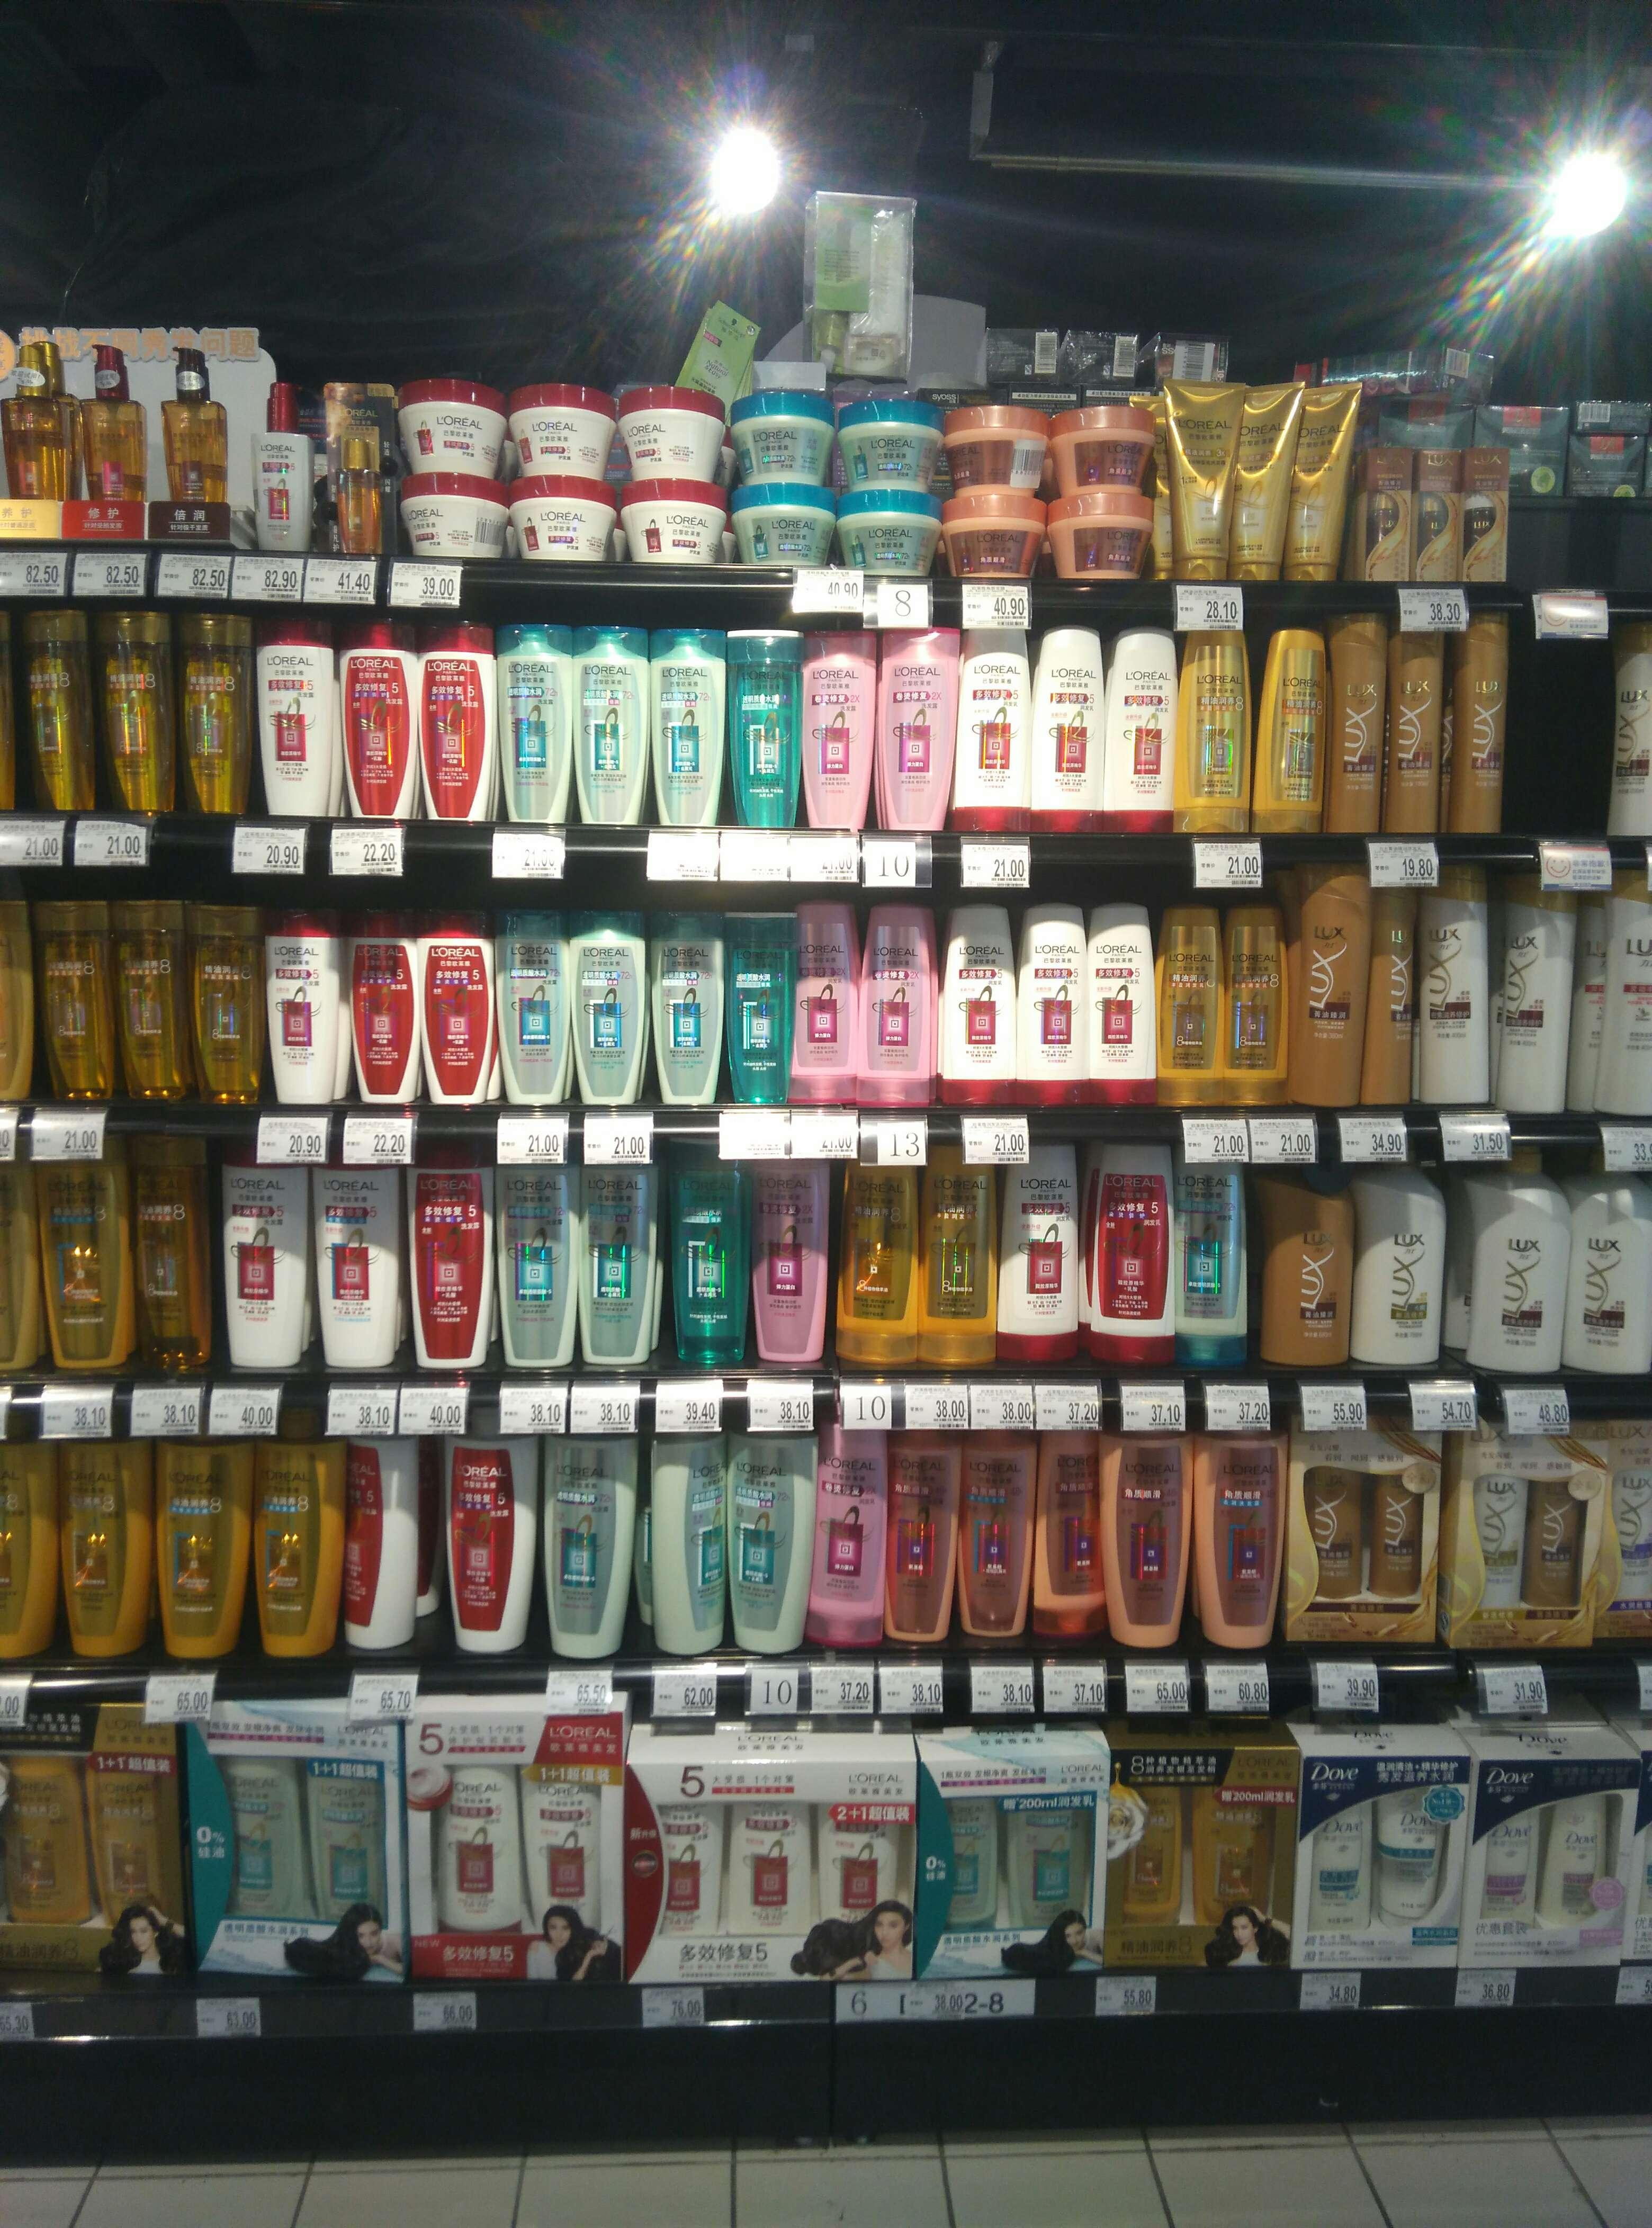empty: (1508, 651, 1603, 847), (1517, 496, 1652, 593)
